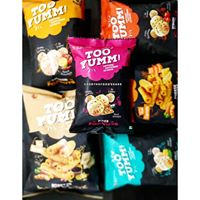plastic: (25, 84, 104, 194), (101, 128, 176, 188), (100, 3, 174, 60), (33, 1, 81, 80), (123, 63, 175, 126)
tooyumm: (77, 44, 127, 71), (32, 95, 79, 122), (111, 138, 135, 183), (26, 3, 71, 26), (108, 5, 132, 40)
